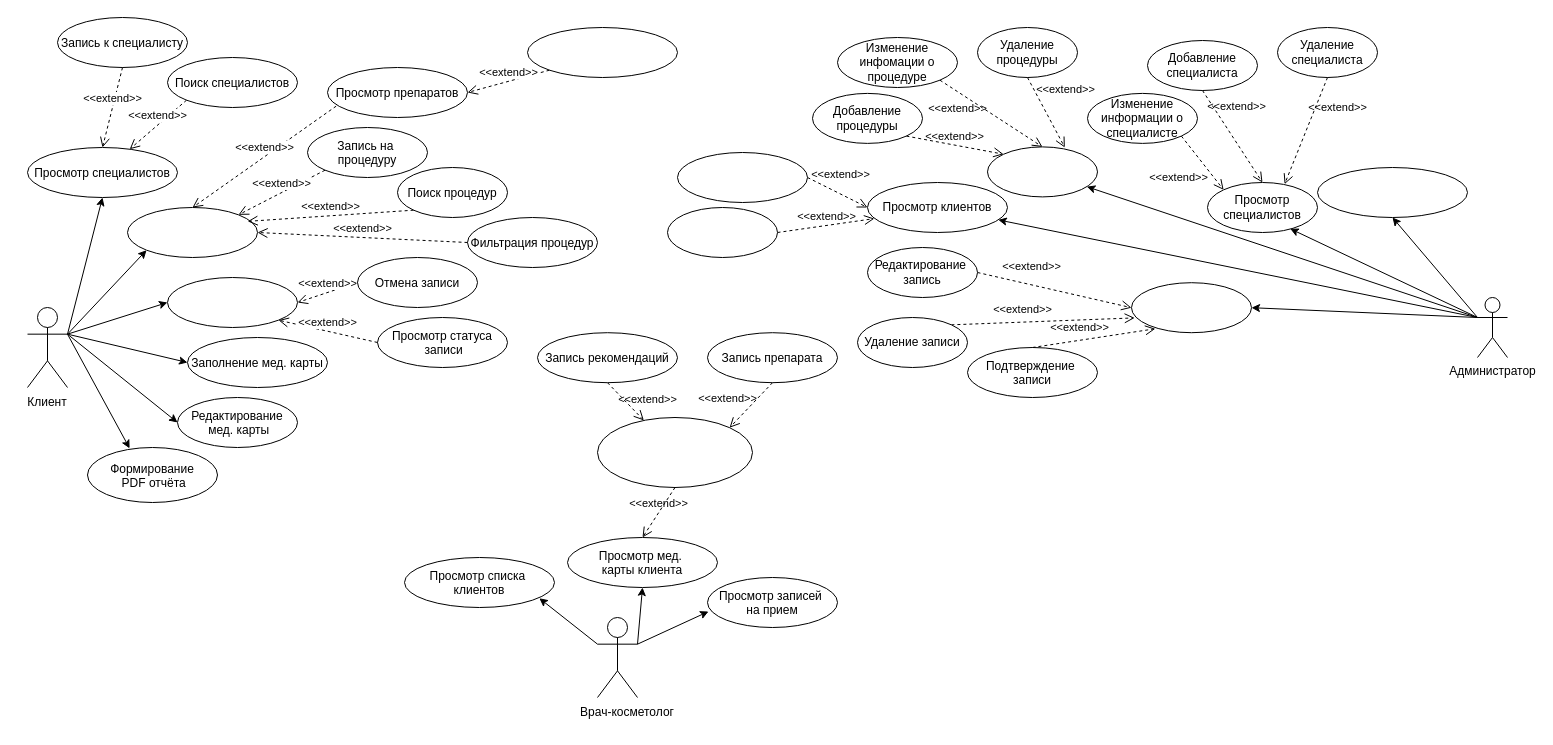
Some shapes in this 1553 by 745 pixel diagram are drawn without their labels. Here are the shapes that lost their labels. From the top down, the box of each, then its label:
(526, 26, 678, 78): Просмотр противопоказаний (AI)
(676, 152, 808, 202): Изменение данных клиента
(986, 146, 1098, 197): Просмотр процедуры
(1316, 166, 1468, 218): Изменение графика специалиста
(126, 206, 258, 258): Просмотр процедур
(666, 206, 778, 258): Удаление клиената
(166, 276, 298, 328): Просмотр истории записей
(1130, 282, 1252, 333): Просмотр записи
(596, 416, 752, 488): Создание новой записи после посещения процедуры
